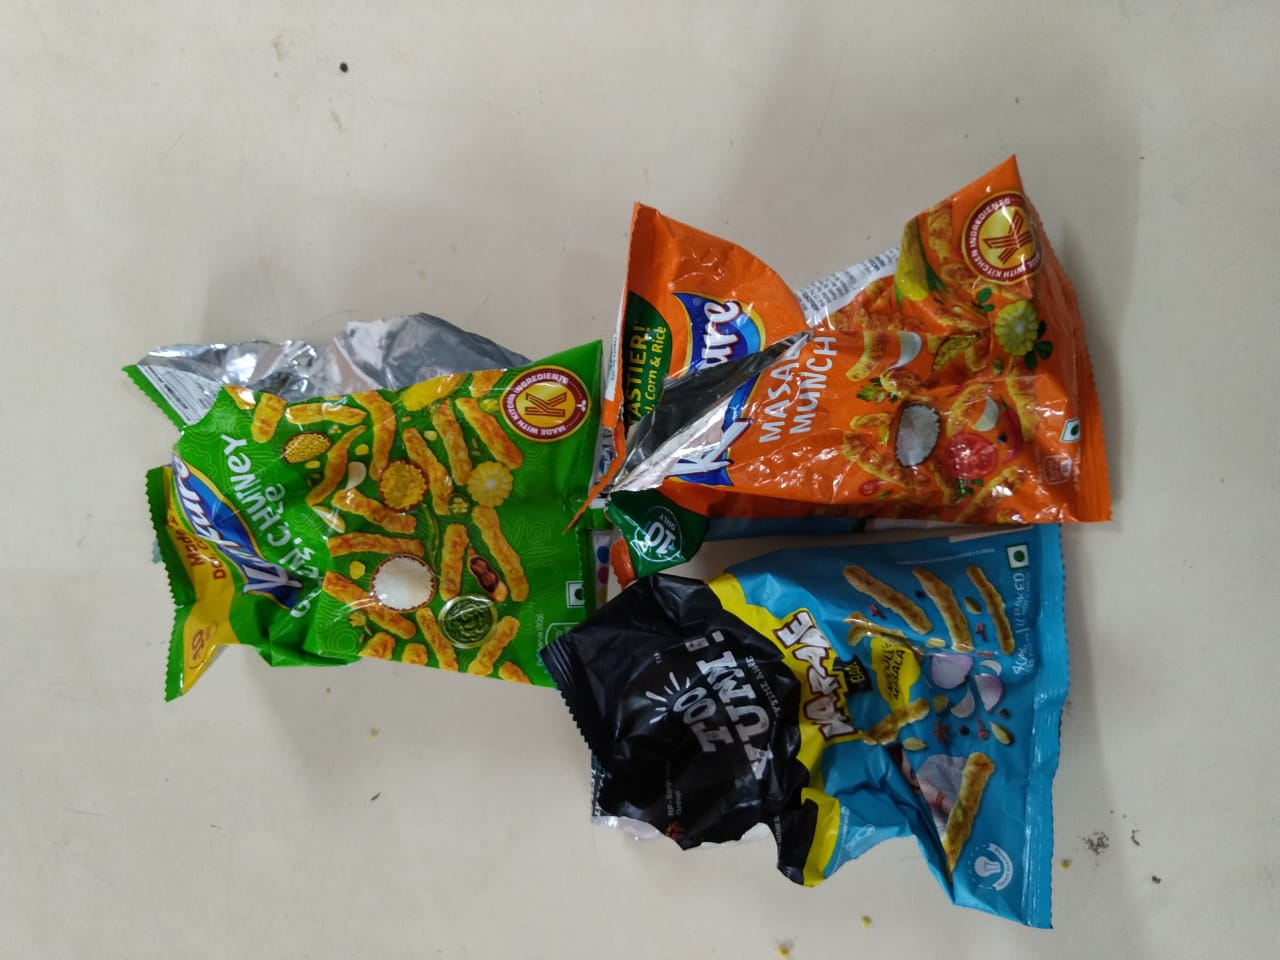kurkure: (141, 327, 321, 607), (663, 269, 811, 491), (629, 271, 817, 371), (175, 459, 309, 585), (681, 309, 761, 475)
plastic: (165, 161, 1107, 913)
tooyumm: (653, 603, 805, 823), (655, 679, 809, 867), (627, 643, 811, 769)
wrapper: (561, 515, 1073, 919), (547, 187, 1131, 539), (161, 303, 611, 707)
